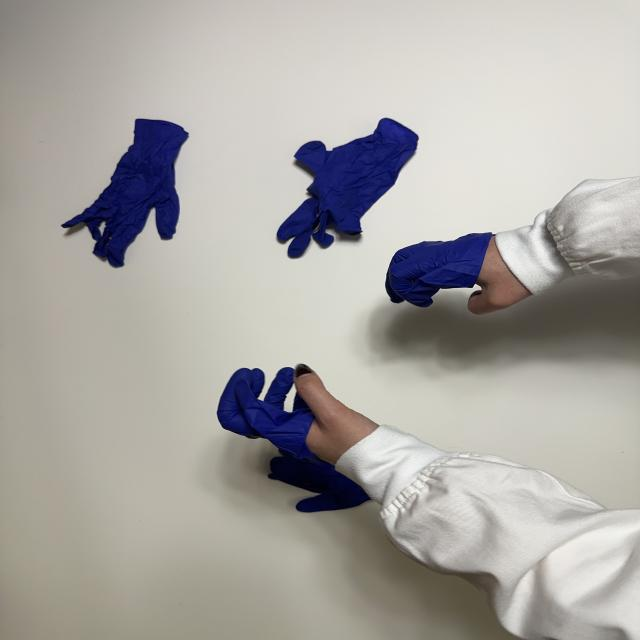glove_partial: (215, 361, 382, 472), (383, 232, 538, 316)
